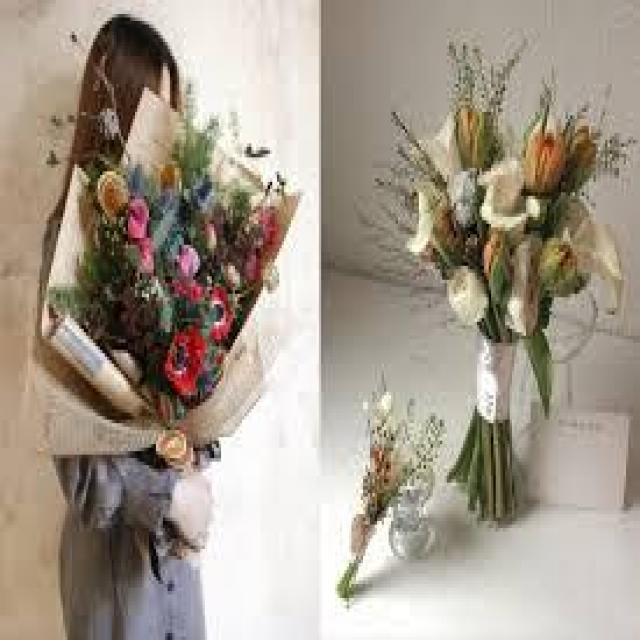organic waste: (91, 168, 256, 381), (569, 172, 625, 304), (472, 142, 550, 232), (406, 166, 469, 275), (504, 224, 546, 350), (444, 262, 494, 329)
